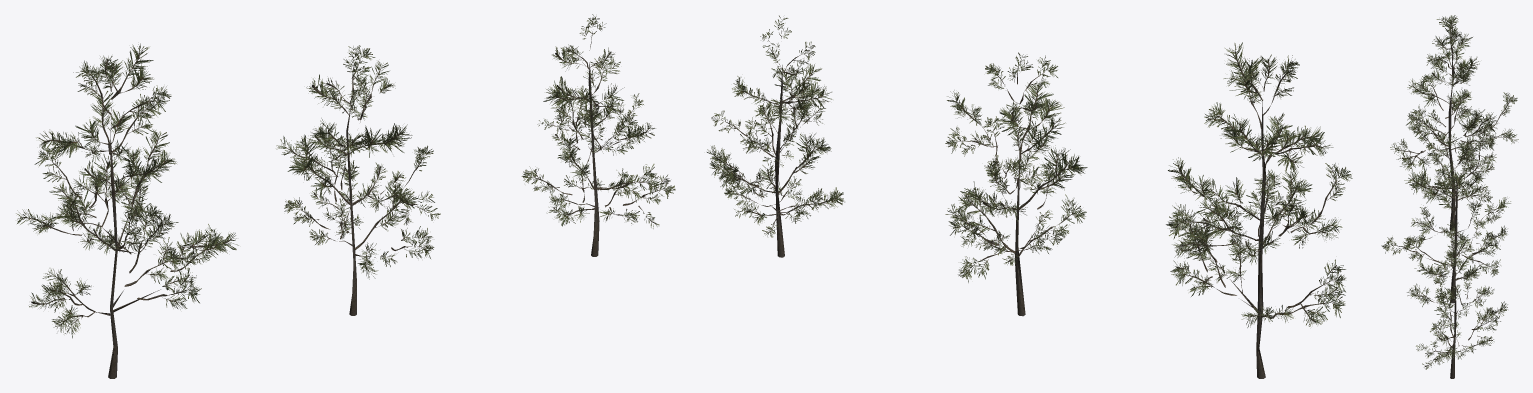
File: pine.glb
The picture shows the model from 3 angles, left to right: view 1: azimuth 30°, elevation 25°; view 2: azimuth 150°, elevation 25°; view 3: azimuth 270°, elevation 25°; orthographic projection. The views are drawn at different scales.
Parts seen in each view (by area): view 1: pine_sapling_small_b; view 2: pine_sapling_small_b; view 3: pine_sapling_small_b.
Boxes of the visible parts, left/top/right/bottom form: pine_sapling_small_b: left=16, top=14, right=675, bottom=378; pine_sapling_small_b: left=707, top=15, right=1352, bottom=378; pine_sapling_small_b: left=1381, top=15, right=1518, bottom=378.
Bounding box in the file's own units: 2.64 × 1.3 × 0.7703.
2 materials, 2 textured.
